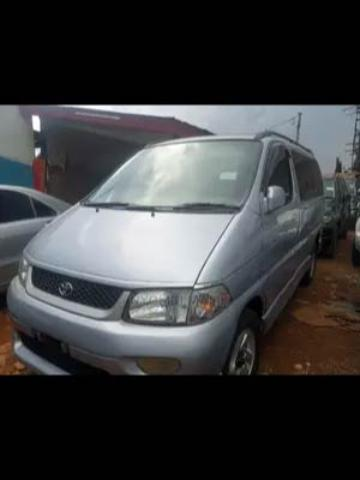van: (6, 127, 322, 373)
